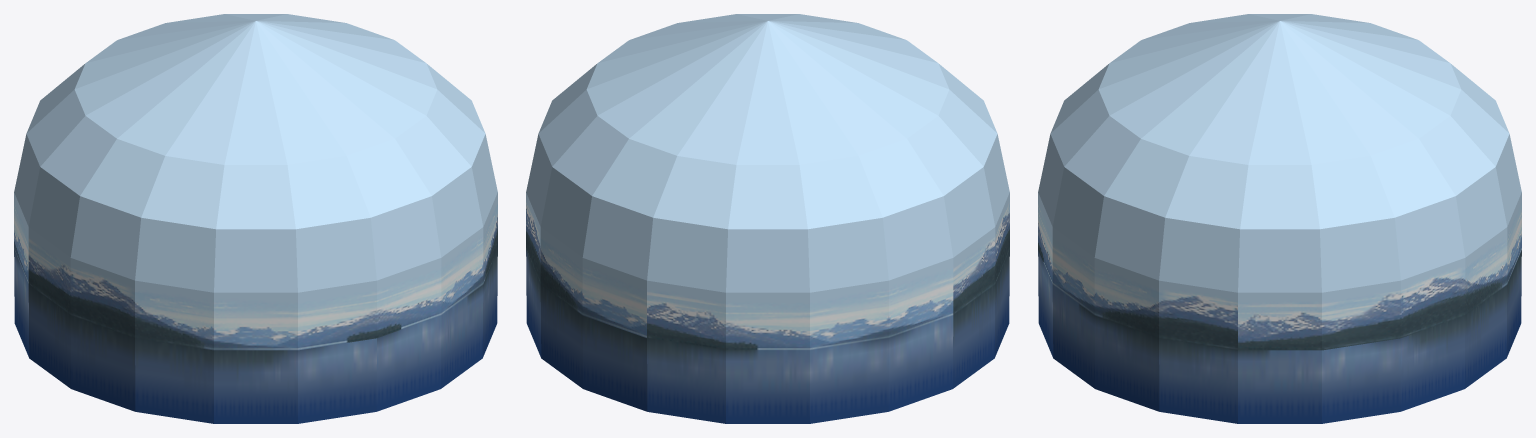
3 renders of one model, left to right at view 1: azimuth 30°, elevation 25°; view 2: azimuth 150°, elevation 25°; view 3: azimuth 270°, elevation 25°, orthographic.
Parts seen in each view (by area): view 1: mesh00; view 2: mesh00; view 3: mesh00.
Part boxes in pixels (x1,y1,x2,y2): mesh00: [14, 14, 497, 423]; mesh00: [526, 14, 1009, 423]; mesh00: [1038, 14, 1521, 423].
Bounding box in the file's own units: 106380 × 95113 × 108019.
